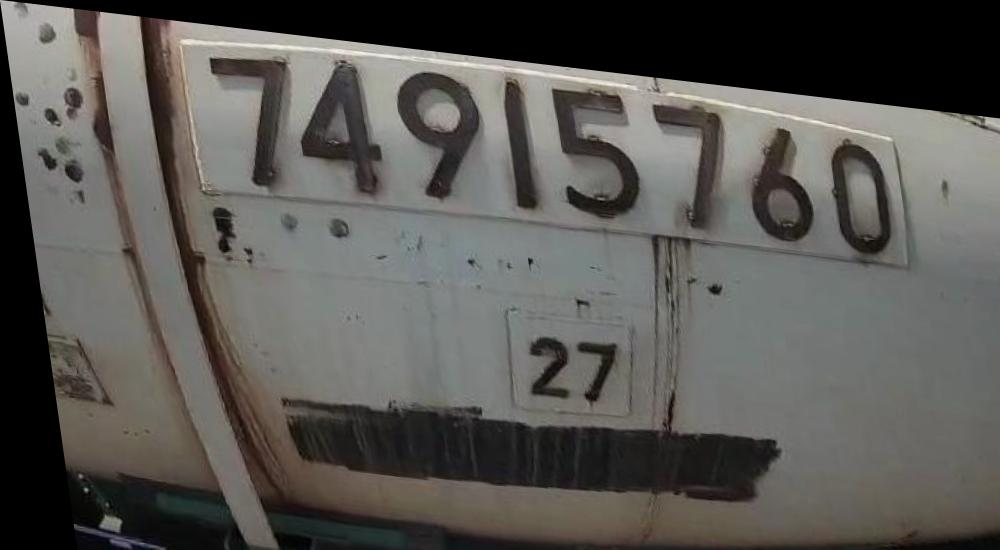Wagon-number: (204, 35, 900, 250)
